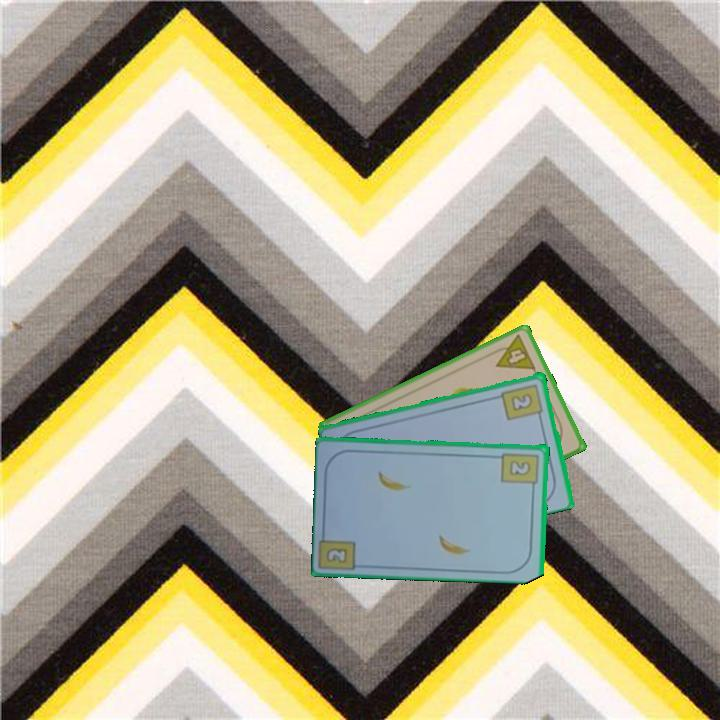2b: (498, 380, 546, 423), (499, 449, 541, 492), (322, 544, 351, 566)
4p: (487, 331, 539, 373)
